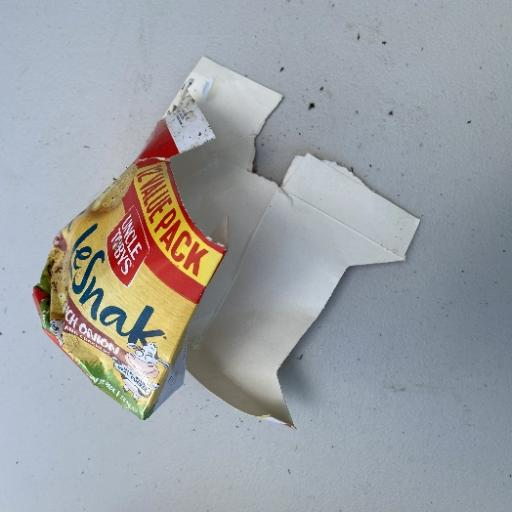Cardboard: (30, 55, 423, 429)
